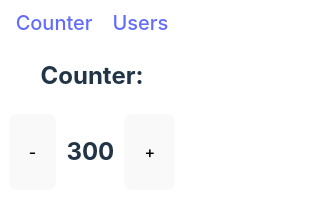
Scenario: Testing the counter app › should inc count when user click on + button
Expected: the heading "300" is shown, 66,134 -> 114,170
Click the button "+" at (150, 152), box 124,114 -> 175,190
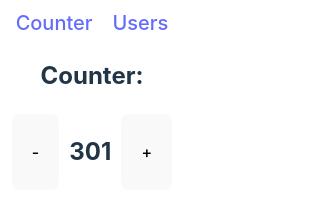
Now the heading "301" is shown, box 69,134 -> 111,170
